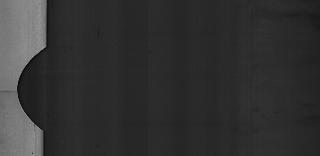welding line: (2, 86, 26, 96)
